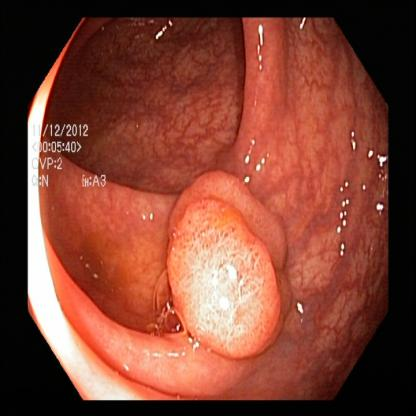Labels: (27, 116, 117, 194)
Polyps: (168, 177, 303, 363)
